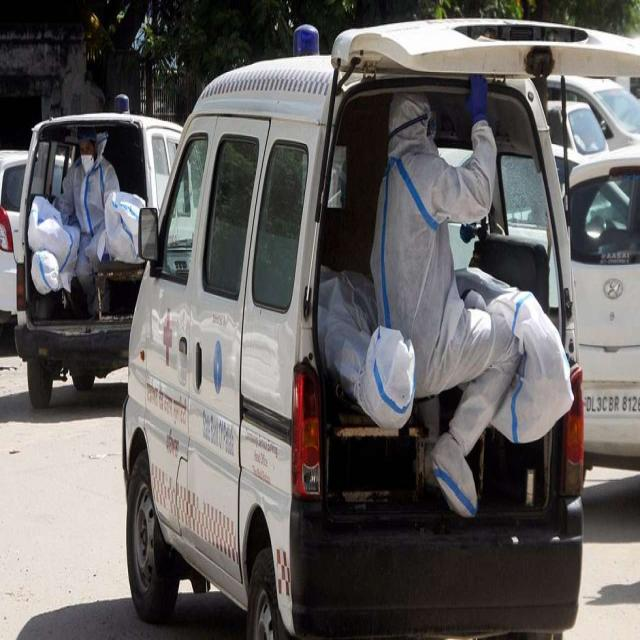emergency: (122, 20, 640, 638), (15, 100, 181, 409)
